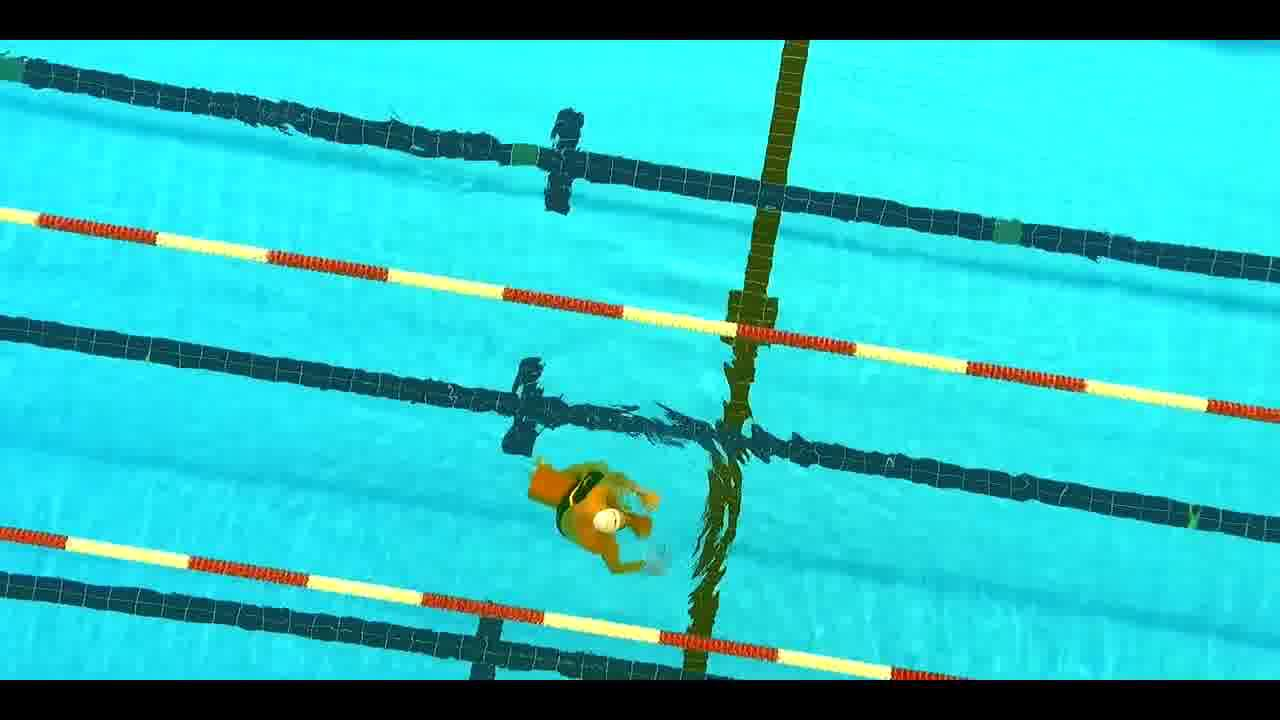human: (524, 456, 680, 579)
